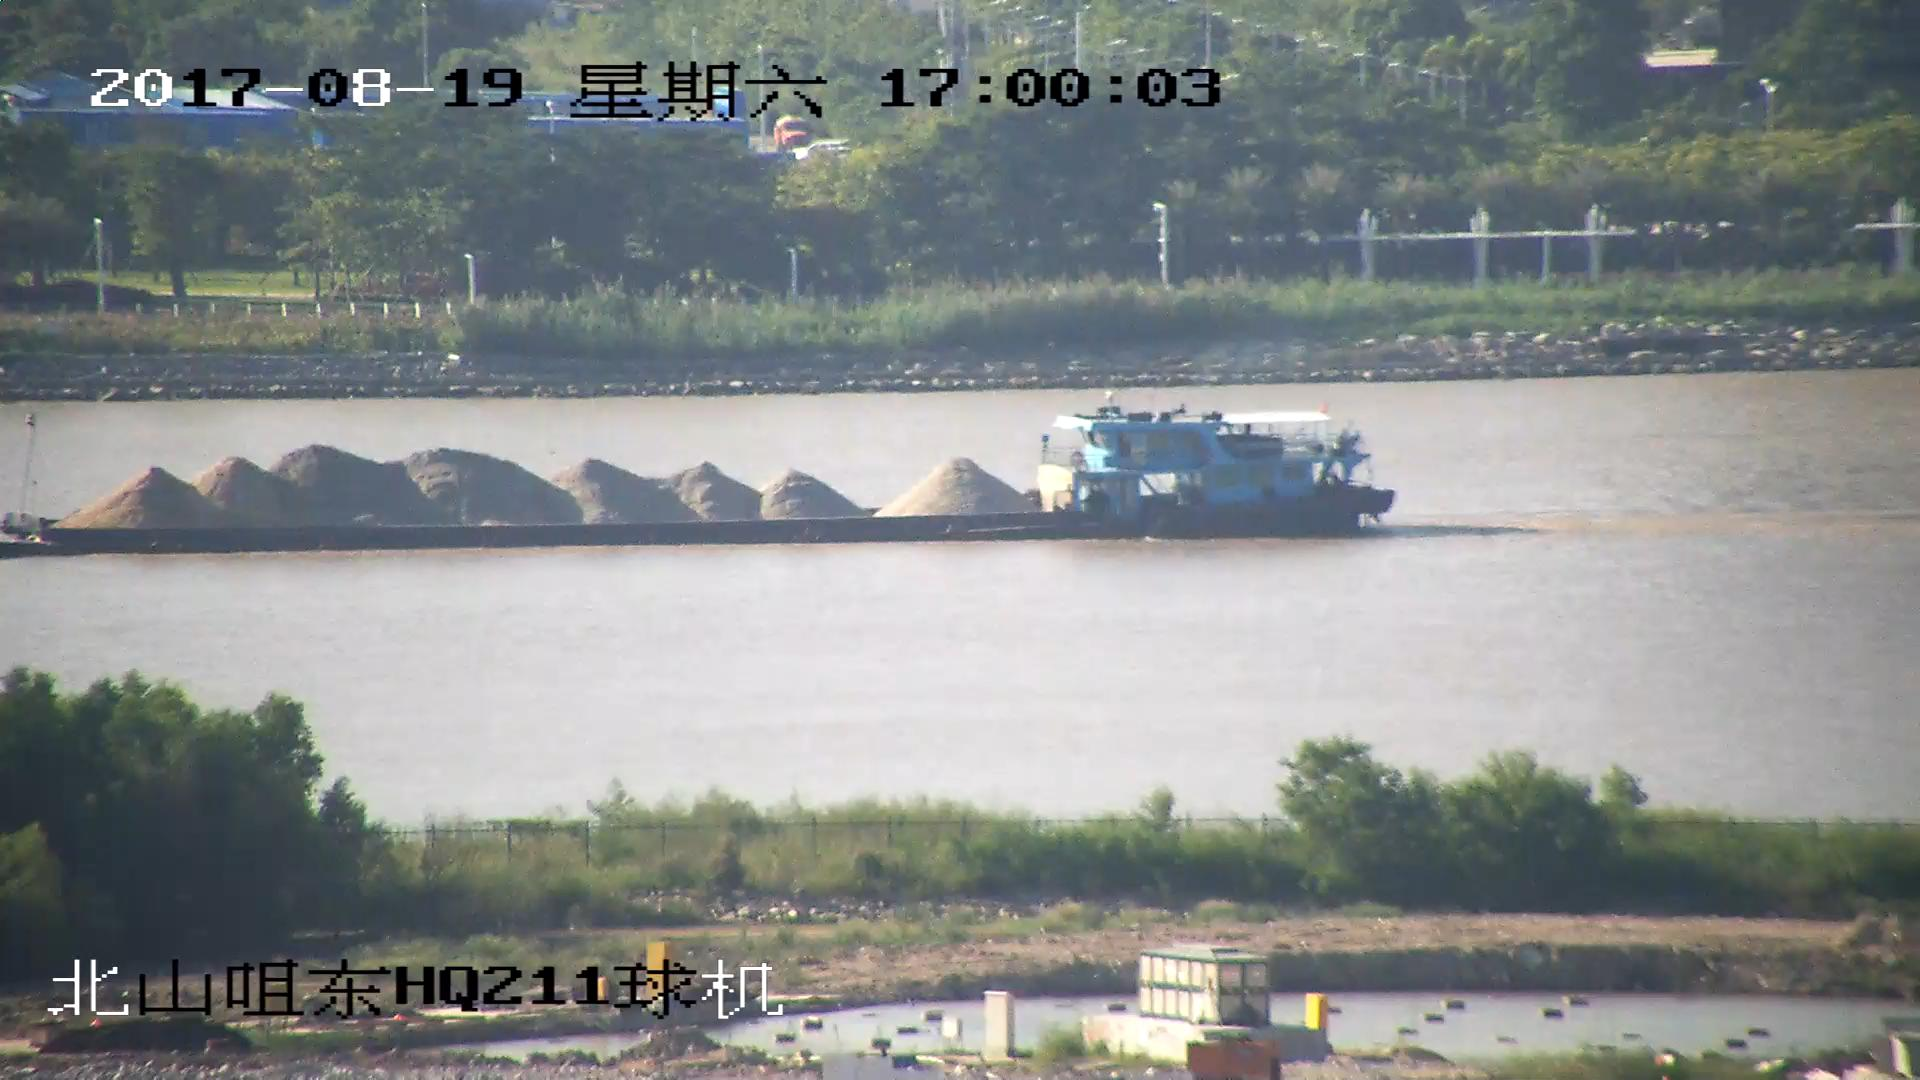ore carrier: (1, 392, 1396, 556)
